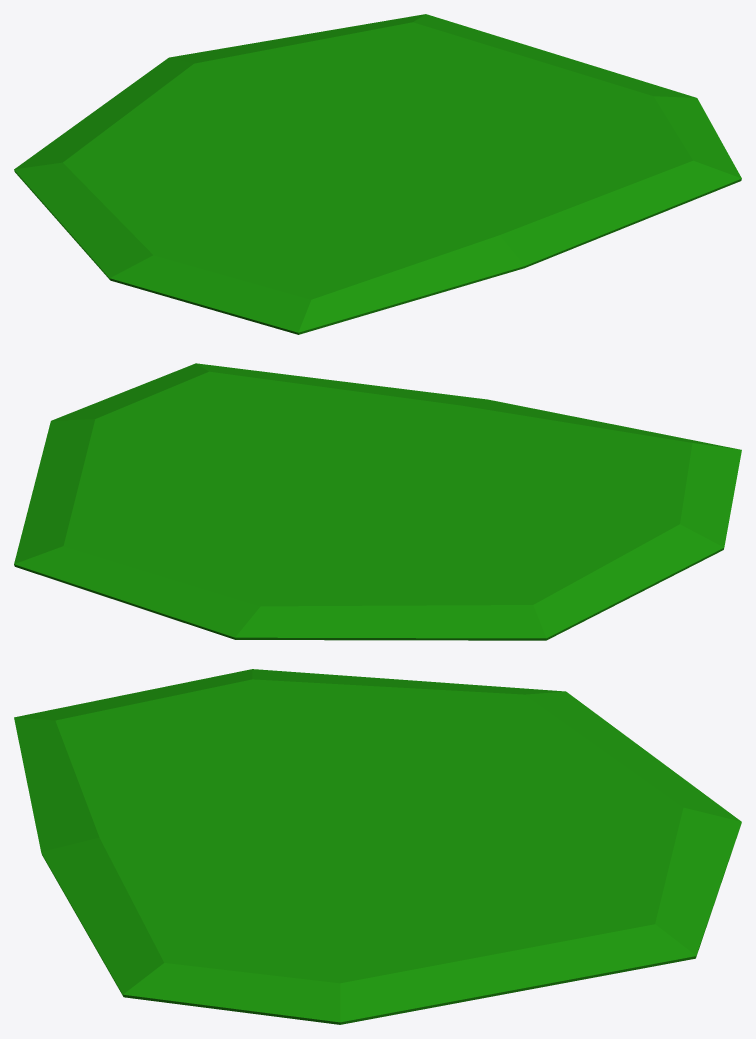
Rendered from grass_platform.fbx.
3 renders of one model, top to bottom at view 1: azimuth 30°, elevation 25°; view 2: azimuth 150°, elevation 25°; view 3: azimuth 270°, elevation 25°, orthographic. The views are drawn at different scales.
Visible parts, largest first — view 1: Circle; view 2: Circle; view 3: Circle.
Boxes of the visible parts, <box> form: Circle: <box>14,14,741,334</box>; Circle: <box>14,363,741,640</box>; Circle: <box>14,669,741,1024</box>.
Bounding box in the file's own units: 5.26 × 4.58 × 0.1195.
